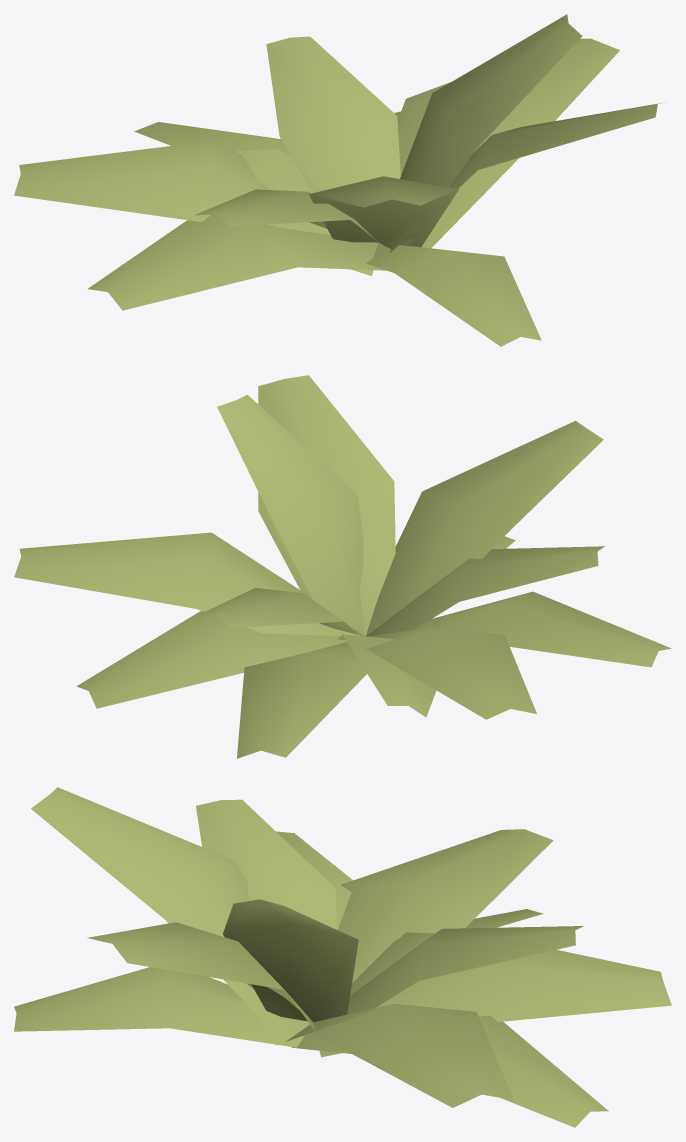
The model's file is cmc_fern.fbx.
3 views of the same model, one above another, from view 1: azimuth 30°, elevation 25°; view 2: azimuth 150°, elevation 25°; view 3: azimuth 270°, elevation 25° (orthographic). The views are drawn at different scales.
Visible parts, largest first — view 1: large_fern_LOD0; view 2: large_fern_LOD0; view 3: large_fern_LOD0.
Part boxes in pixels (<box>): large_fern_LOD0: <box>14,14,663,346</box>; large_fern_LOD0: <box>14,375,671,758</box>; large_fern_LOD0: <box>14,787,671,1127</box>.
Size of what is drawn, in the model's own units: 1.08 by 0.3691 by 0.9642.
